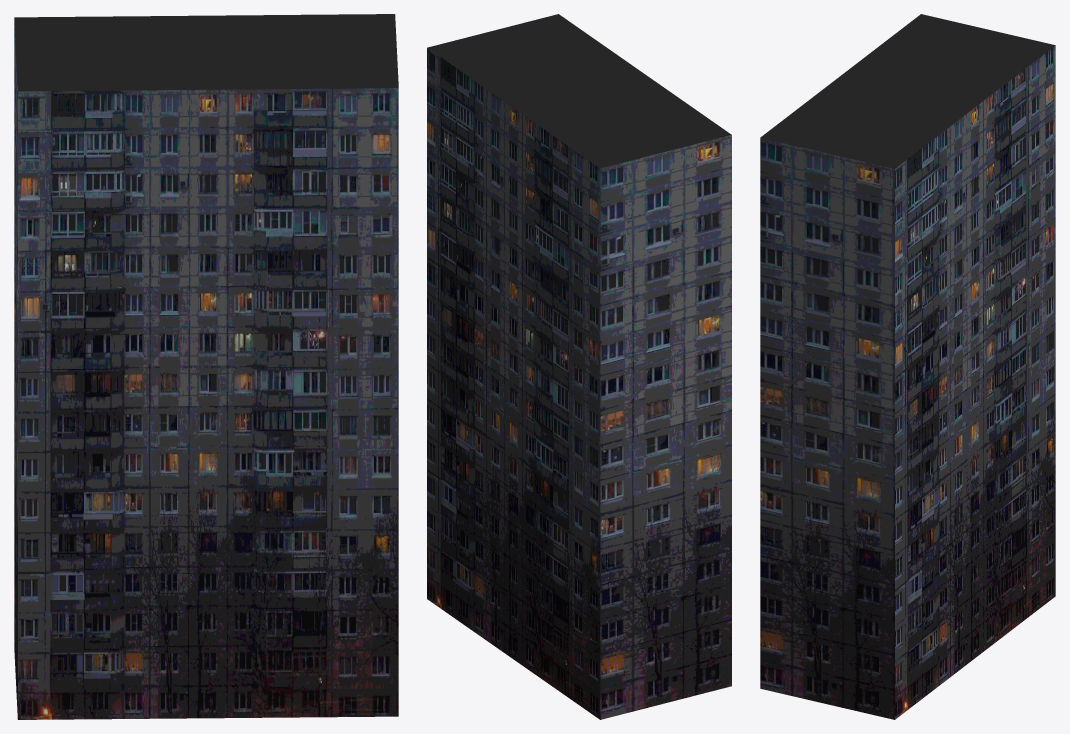
Rendered from house06.fbx.
The picture shows the model from 3 angles, left to right: view 1: azimuth 30°, elevation 25°; view 2: azimuth 150°, elevation 25°; view 3: azimuth 270°, elevation 25°; orthographic projection. The views are drawn at different scales.
Parts seen in each view (by area): view 1: Cube.003; view 2: Cube.003; view 3: Cube.003.
Boxes of the visible parts, bbox=[...] form: Cube.003: bbox=[14, 14, 398, 719]; Cube.003: bbox=[427, 14, 731, 719]; Cube.003: bbox=[760, 14, 1055, 719].
Bounding box in the file's own units: 549 × 910 × 442.
Materials: 1 (1 with a texture image).
